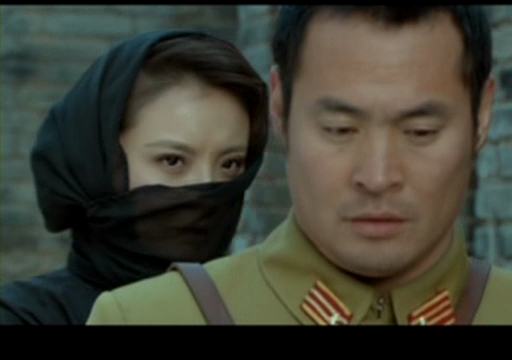face: (283, 34, 475, 266)
face_mask: (128, 86, 255, 253)
